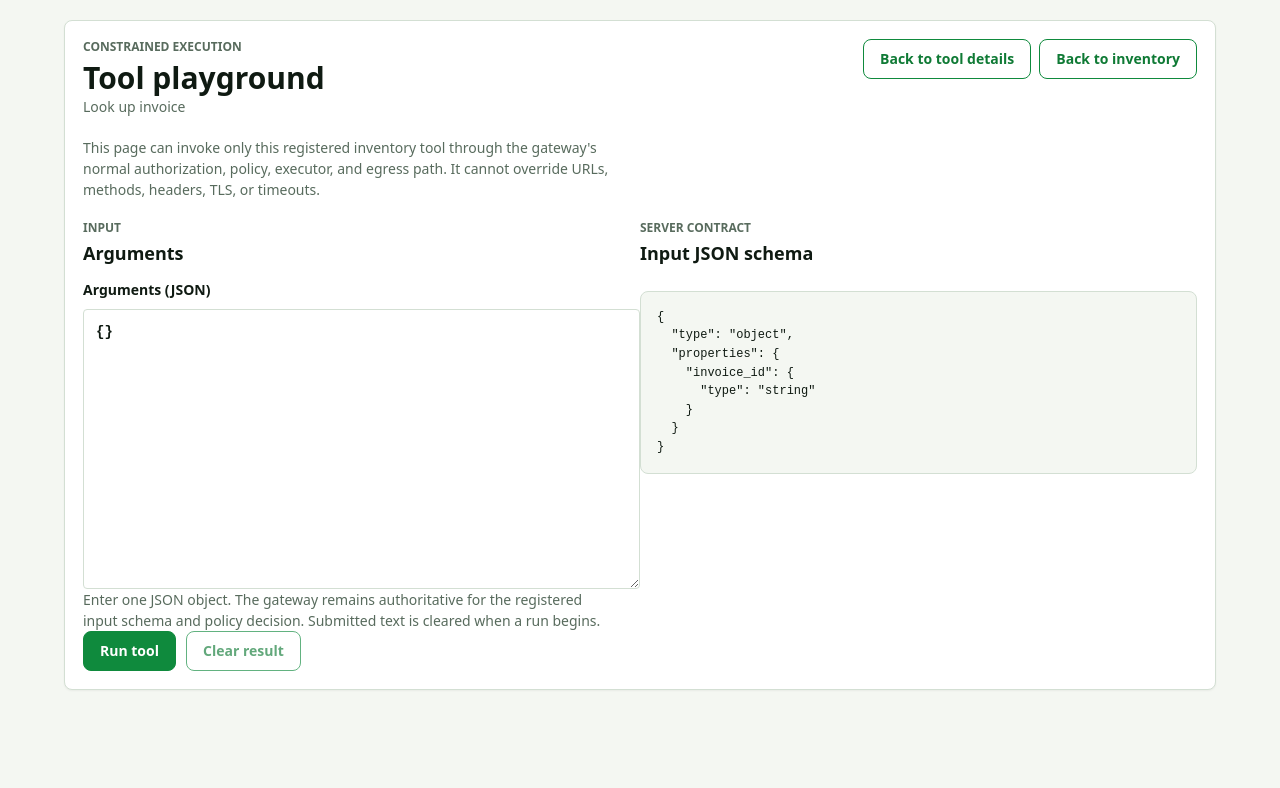
Test case: ToolPlayground › renders a bounded composite body and step summary
Click the button "Run tool": (130,651) [83,631,176,671]
(page scrolled)
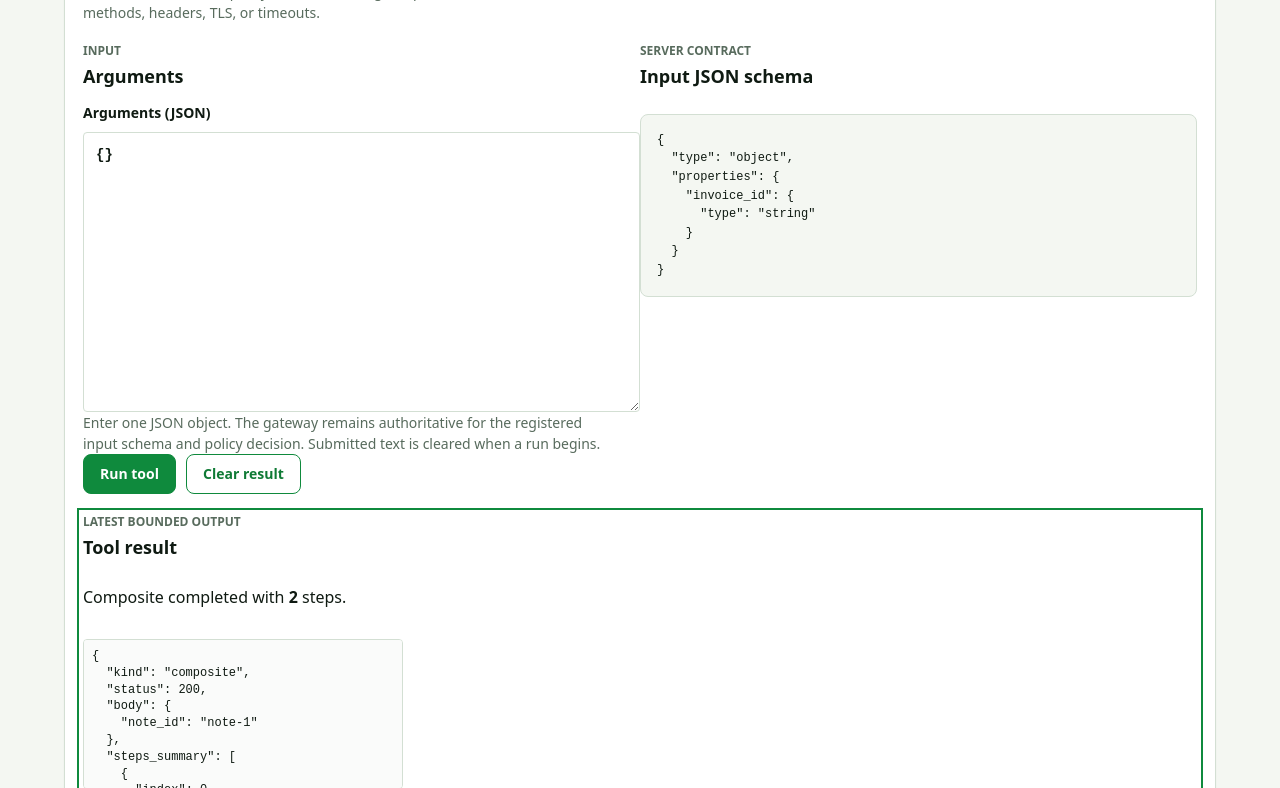
Expected: the text box labelled "Arguments (JSON)" holds "{}", [83,132,640,412]
Now the text "Composite completed with 2 steps." is shown, box [83,586,346,608]
Now the text "2" is shown, box [289,586,298,608]
